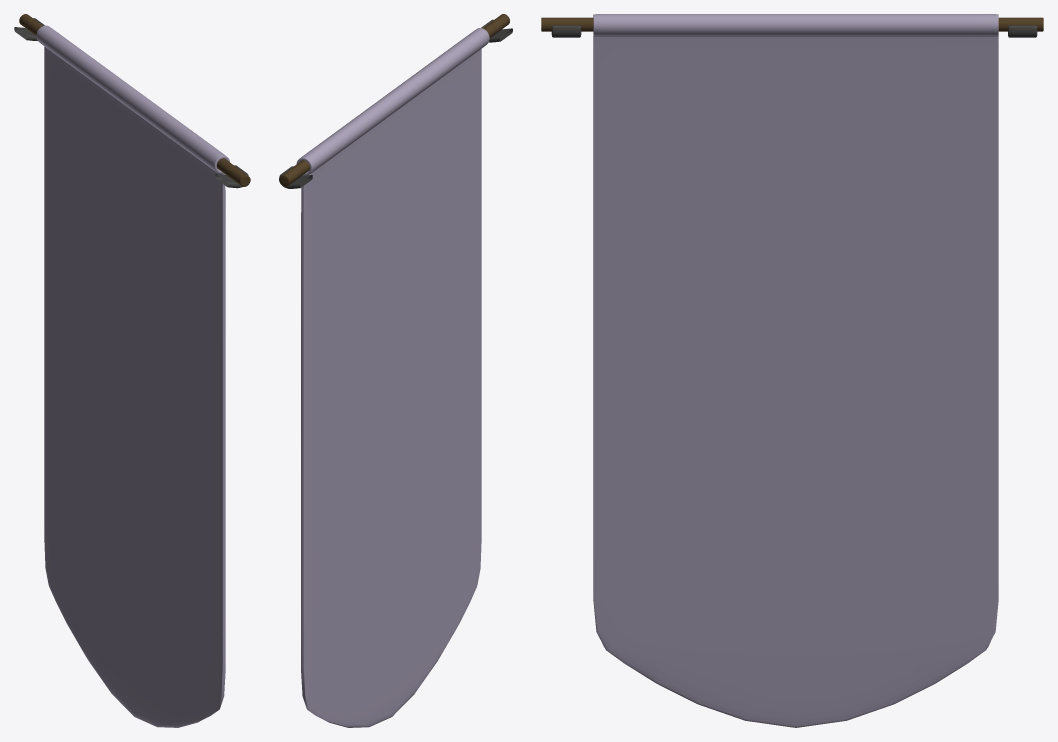
File: HangingBanner.fbx
The picture shows the model from 3 angles, left to right: view 1: azimuth 30°, elevation 25°; view 2: azimuth 150°, elevation 25°; view 3: azimuth 270°, elevation 25°; orthographic projection. The views are drawn at different scales.
Parts seen in each view (by area): view 1: banner2, polySurface3; view 2: banner2, polySurface3; view 3: banner2, polySurface3.
Part boxes in pixels (x1,y1,x2,y2): banner2: (36,25,229,727); polySurface3: (19,14,250,186); banner2: (296,28,489,727); polySurface3: (279,14,509,186); banner2: (593,14,998,727); polySurface3: (541,17,1043,31).
Bounding box in the file's own units: 0.4044 × 11.24 × 7.2.
